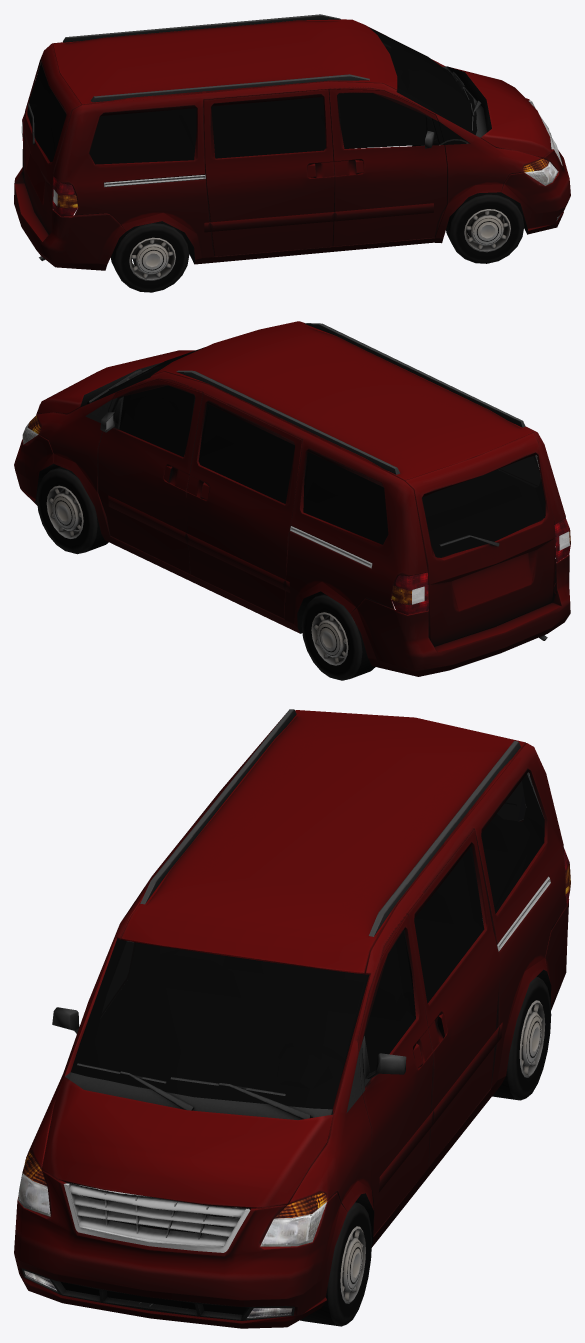
File: generico-minivan.glb
The picture shows the model from 3 angles, top to bottom: view 1: azimuth 30°, elevation 25°; view 2: azimuth 150°, elevation 25°; view 3: azimuth 270°, elevation 25°; orthographic projection. The views are drawn at different scales.
Visible parts, largest first — view 1: minivan body, Wheel_D002, Wheel_D003; view 2: minivan body, Wheel_D001, Wheel_D; view 3: minivan body, Wheel_D, Wheel_D001.
Boxes of the visible parts, x1,y1,x2,y2 form: minivan body: (14,14,570,270); Wheel_D002: (446,192,524,263); Wheel_D003: (110,221,189,292); minivan body: (14,321,570,676); Wheel_D001: (301,593,375,680); Wheel_D: (37,466,108,554); minivan body: (14,709,570,1328); Wheel_D: (300,1202,371,1326); Wheel_D001: (492,976,551,1100).
Bounding box in the file's own units: 4.62 × 1.75 × 2.8.
Materials: 4 (3 with a texture image).
